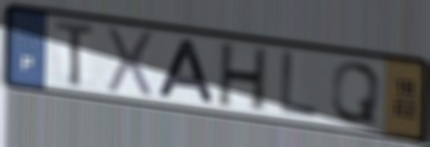A: (155, 37, 218, 106)
H: (215, 41, 271, 115)
L: (277, 47, 320, 122)
Q: (328, 60, 384, 126)
T: (53, 18, 98, 89)
X: (104, 23, 158, 102)
